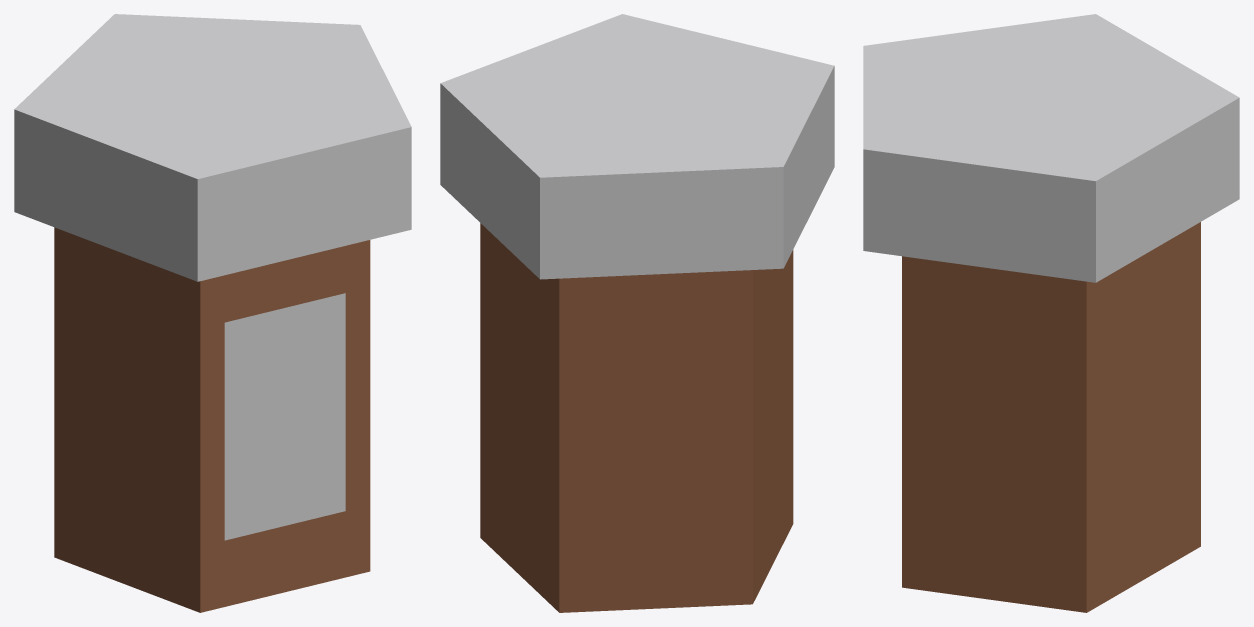
Rendered from coffe.fbx.
3 renders of one model, left to right at view 1: azimuth 30°, elevation 25°; view 2: azimuth 150°, elevation 25°; view 3: azimuth 270°, elevation 25°, orthographic.
Visible parts, largest first — view 1: pills_01; view 2: pills_01; view 3: pills_01.
Boxes of the visible parts, x1,y1,x2,y2 form: pills_01: (14,14,411,612); pills_01: (440,14,834,612); pills_01: (863,14,1239,612).
Size of the model in its own units: 23.95 by 29.98 by 22.78.
